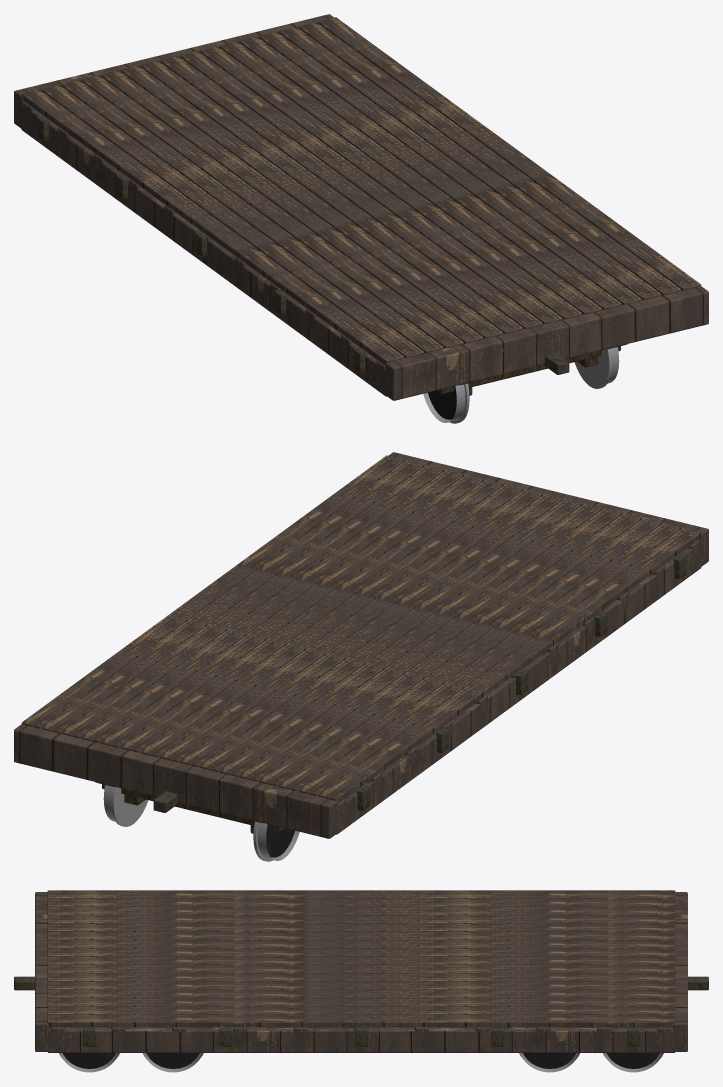
The model's file is flatcar.glb.
3 renders of one model, top to bottom at view 1: azimuth 30°, elevation 25°; view 2: azimuth 150°, elevation 25°; view 3: azimuth 270°, elevation 25°, orthographic. The views are drawn at different scales.
Visible parts, largest first — view 1: Body, Wheel_RL26, Wheel_RR26; view 2: Body, Wheel_FL26, Wheel_FR26; view 3: Body, Wheel_FR26, Wheel_RR26, Wheel_FR18, Wheel_RR18.
Boxes of the visible parts, x1,y1,x2,y2 form: Body: (14, 14, 708, 400); Wheel_RL26: (423, 383, 469, 423); Wheel_RR26: (574, 347, 619, 388); Body: (14, 452, 708, 838); Wheel_FL26: (253, 821, 299, 861); Wheel_FR26: (103, 785, 148, 826); Body: (14, 890, 708, 1052); Wheel_FR26: (603, 1053, 663, 1072); Wheel_RR26: (59, 1053, 119, 1072); Wheel_FR18: (519, 1053, 580, 1072); Wheel_RR18: (142, 1053, 203, 1072).
Size of the model in its own units: 3.1 by 0.8915 by 6.64.
5 materials, 4 textured.
